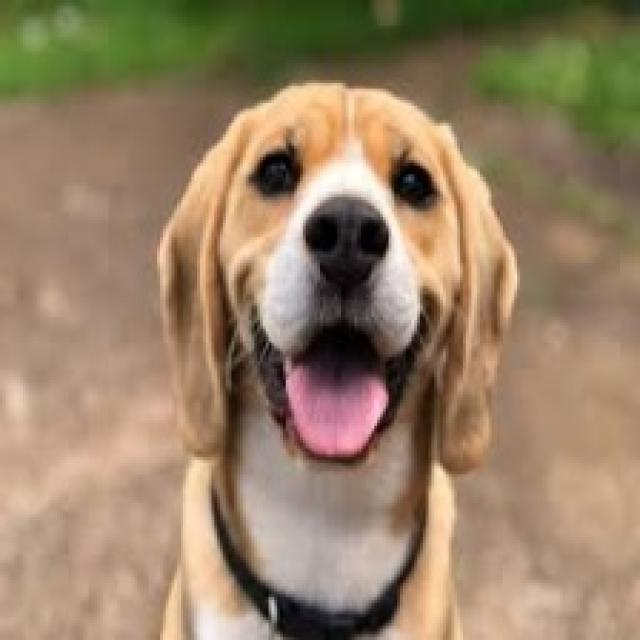bear: (104, 59, 537, 636)
